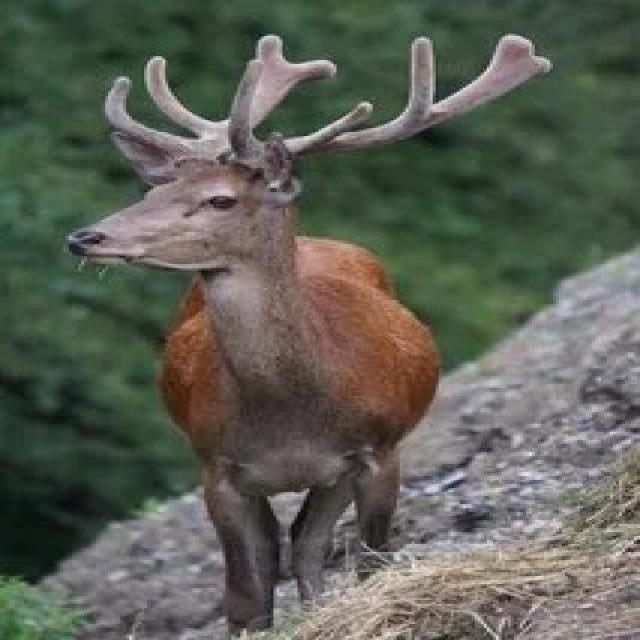deer: (0, 42, 516, 553)
